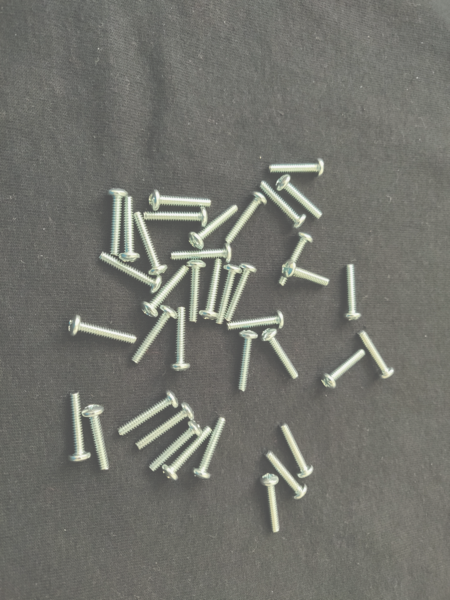longscrew: (116, 388, 182, 438), (133, 401, 198, 450), (147, 418, 204, 472), (161, 425, 214, 482), (128, 305, 179, 364), (96, 250, 164, 293), (142, 263, 191, 320), (132, 209, 169, 278), (262, 449, 309, 502), (224, 190, 267, 247), (258, 180, 308, 229), (193, 414, 229, 482), (273, 174, 325, 220), (65, 315, 137, 347), (319, 346, 369, 392), (187, 204, 239, 248), (278, 420, 316, 480), (81, 402, 112, 474), (258, 327, 299, 381), (277, 232, 314, 289), (357, 328, 395, 381), (224, 262, 257, 322), (215, 262, 245, 327), (66, 391, 92, 464), (199, 255, 225, 323), (105, 186, 129, 259), (118, 195, 142, 265), (258, 474, 283, 536), (225, 308, 286, 333), (170, 304, 192, 373), (141, 207, 209, 229), (184, 259, 208, 321), (147, 189, 213, 211), (237, 328, 258, 396), (282, 261, 332, 288), (171, 243, 235, 264), (341, 261, 362, 324), (267, 159, 326, 179)
